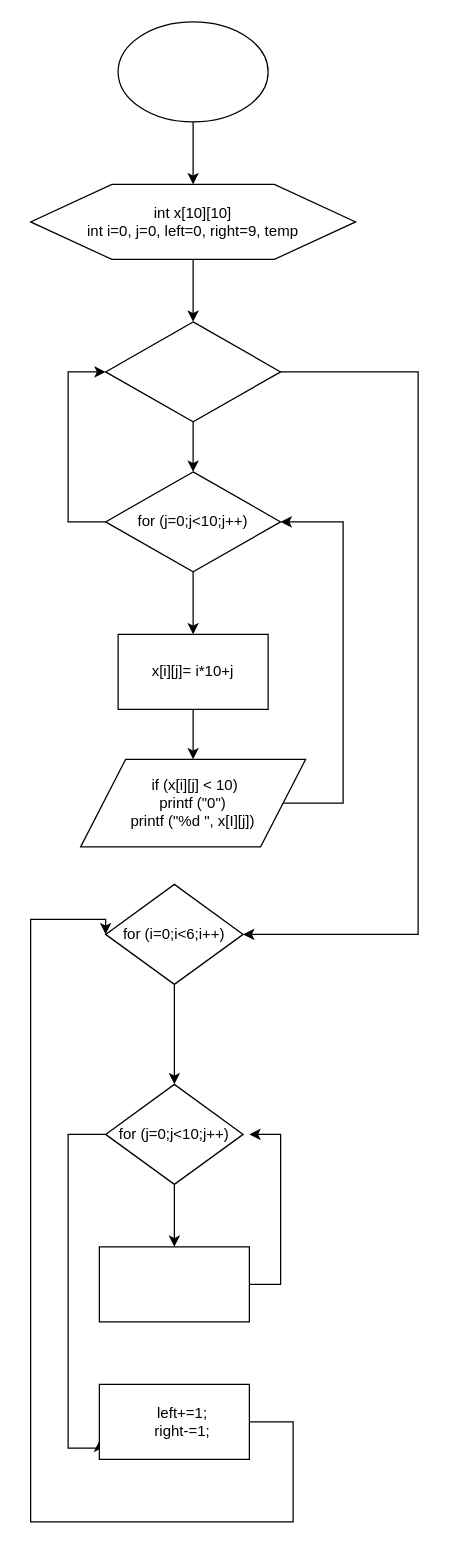
Image size: 450x1554. Some labels were removed from this diagram. The shapes that lost their labels are listed below. From the top down, each one's box as (x1, y1, x2, y2) in pixels, then its label:
(117, 21, 268, 122): START
(104, 321, 281, 422): for(i=0;i<10;i++)
(98, 1246, 249, 1322): if ((j>left)&&(j<right)){ temp = x[i][j] x[i][j]=x[9-i][j] x[9-i][j]=temp
